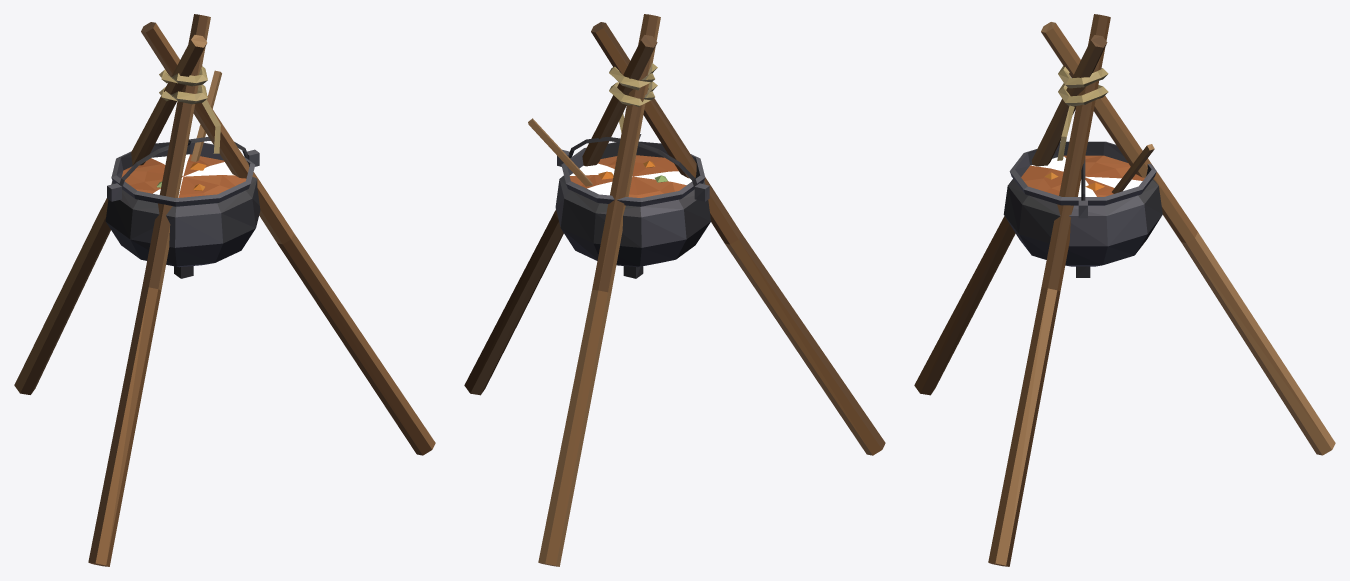
Rendered from camp-tripod.glb.
3 renders of one model, left to right at view 1: azimuth 30°, elevation 25°; view 2: azimuth 150°, elevation 25°; view 3: azimuth 270°, elevation 25°, orthographic.
Parts seen in each view (by area): view 1: camp-tripod; view 2: camp-tripod; view 3: camp-tripod.
Boxes of the visible parts, x1,y1,x2,y2 form: camp-tripod: (14,14,435,566); camp-tripod: (464,14,885,566); camp-tripod: (914,14,1335,566).
Bounding box in the file's own units: 1.1 × 1.24 × 1.06.
